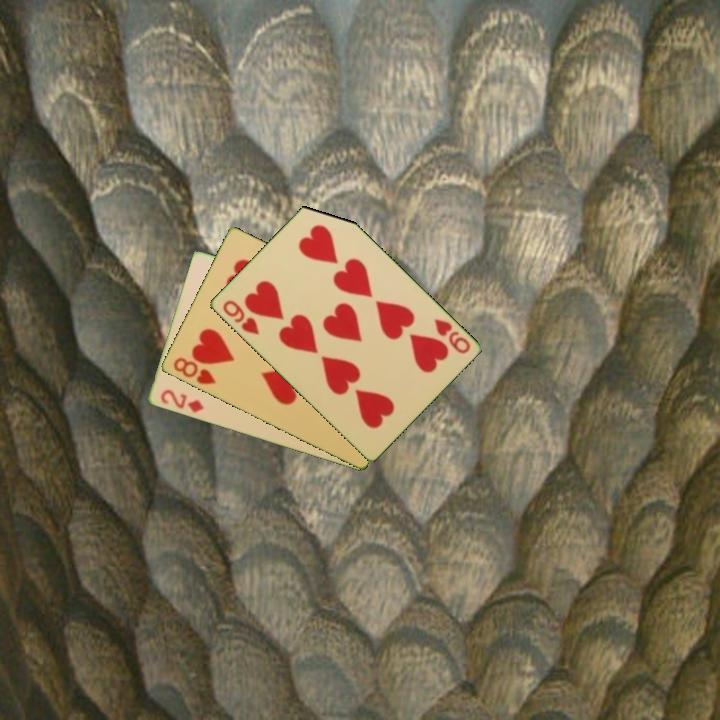2d: (156, 386, 206, 416)
8h: (169, 354, 219, 387)
9h: (219, 296, 262, 338), (430, 315, 473, 357)
